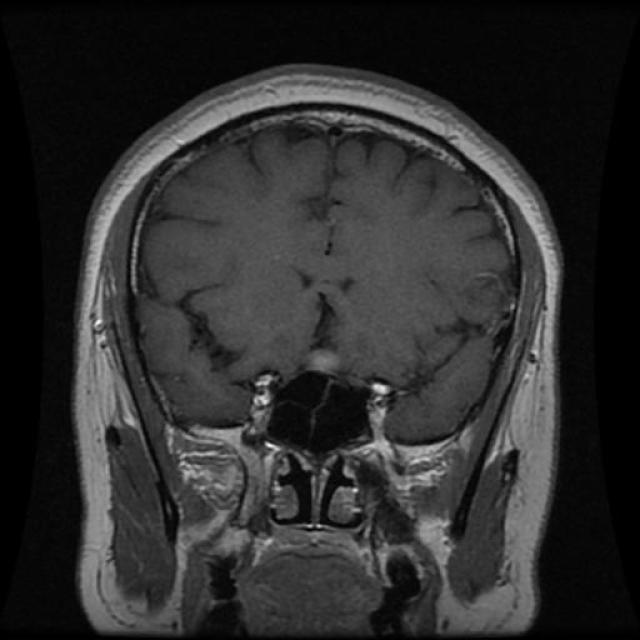pituitary: (245, 339, 400, 414)
